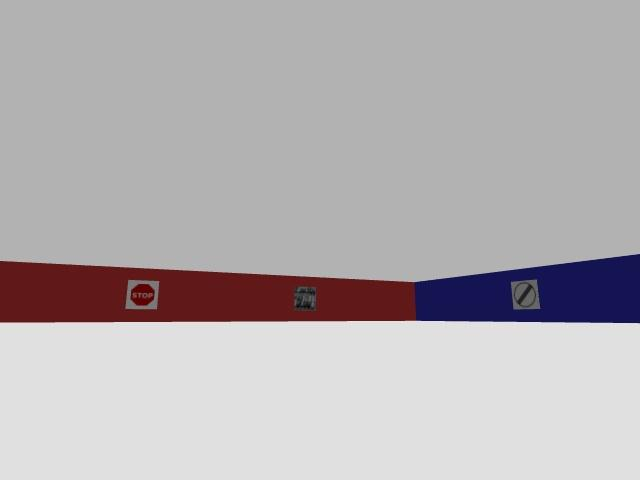fastsign: (511, 280, 539, 308)
stopsign: (125, 280, 159, 309)
